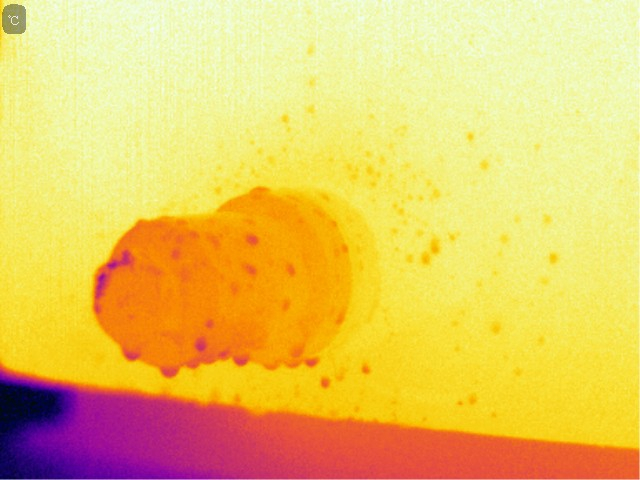Water: (219, 344, 250, 370), (122, 342, 145, 363), (162, 360, 182, 382), (191, 332, 211, 352), (198, 351, 220, 369), (240, 231, 261, 248), (424, 237, 442, 255), (245, 183, 271, 195), (284, 259, 300, 278), (354, 359, 373, 375), (304, 354, 324, 369), (289, 341, 306, 358), (183, 357, 201, 373), (262, 359, 284, 372), (243, 262, 260, 277), (319, 374, 334, 390), (284, 357, 303, 369)
